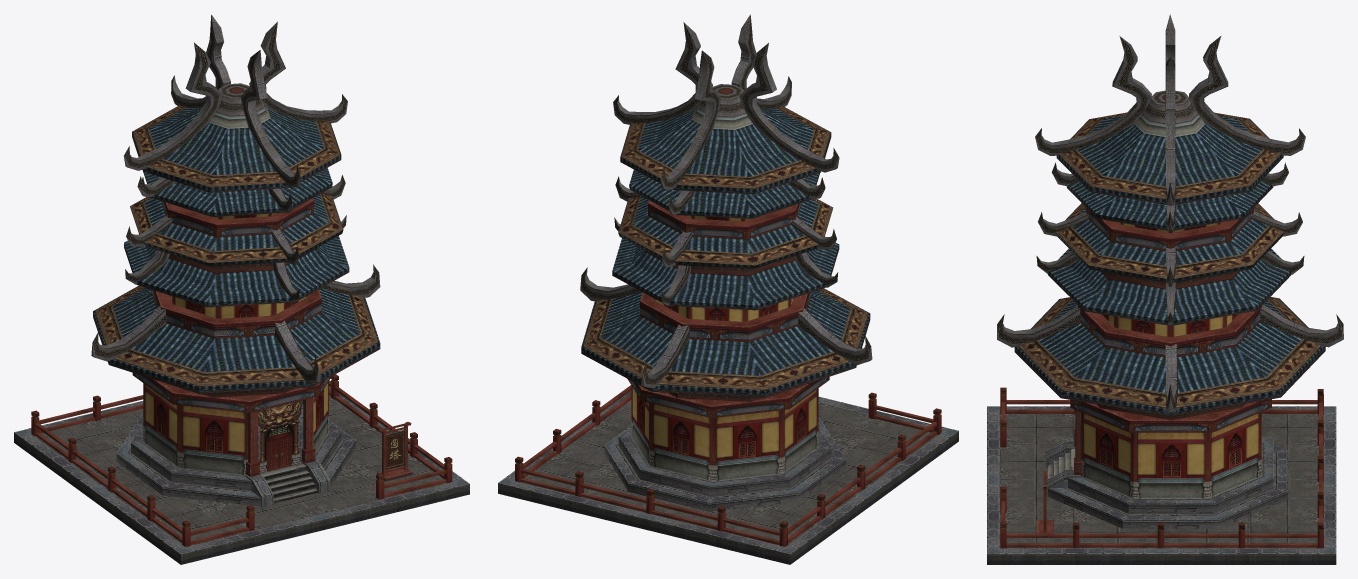
The picture shows the model from 3 angles, left to right: view 1: azimuth 30°, elevation 25°; view 2: azimuth 150°, elevation 25°; view 3: azimuth 270°, elevation 25°; orthographic projection. The views are drawn at different scales.
Visible parts, largest first — view 1: g_34; view 2: g_34; view 3: g_34.
Part boxes in pixels (box(x1,y1,x2,y2)): g_34: box(14, 14, 469, 564); g_34: box(498, 14, 958, 564); g_34: box(987, 14, 1343, 564).
Size of the model in its own units: 20.06 by 28.72 by 20.43.
3 materials, 3 textured.
